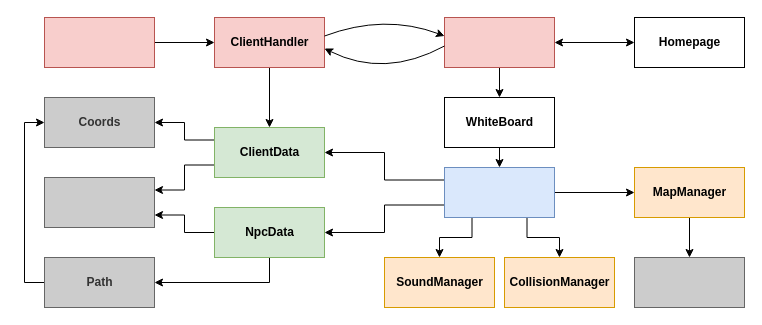
The diagram is 762 pixels wide and 325 high, and some of its shapes have lost their labels. Here are the shapes that lost their labels. From the top down, the centre of each, then its label:
At [99,42]: "Server".
At [499,42]: "Client".
At [99,202]: "«enum» Direction".
At [499,192]: "PaintArea".
At [689,282]: "Tile".
